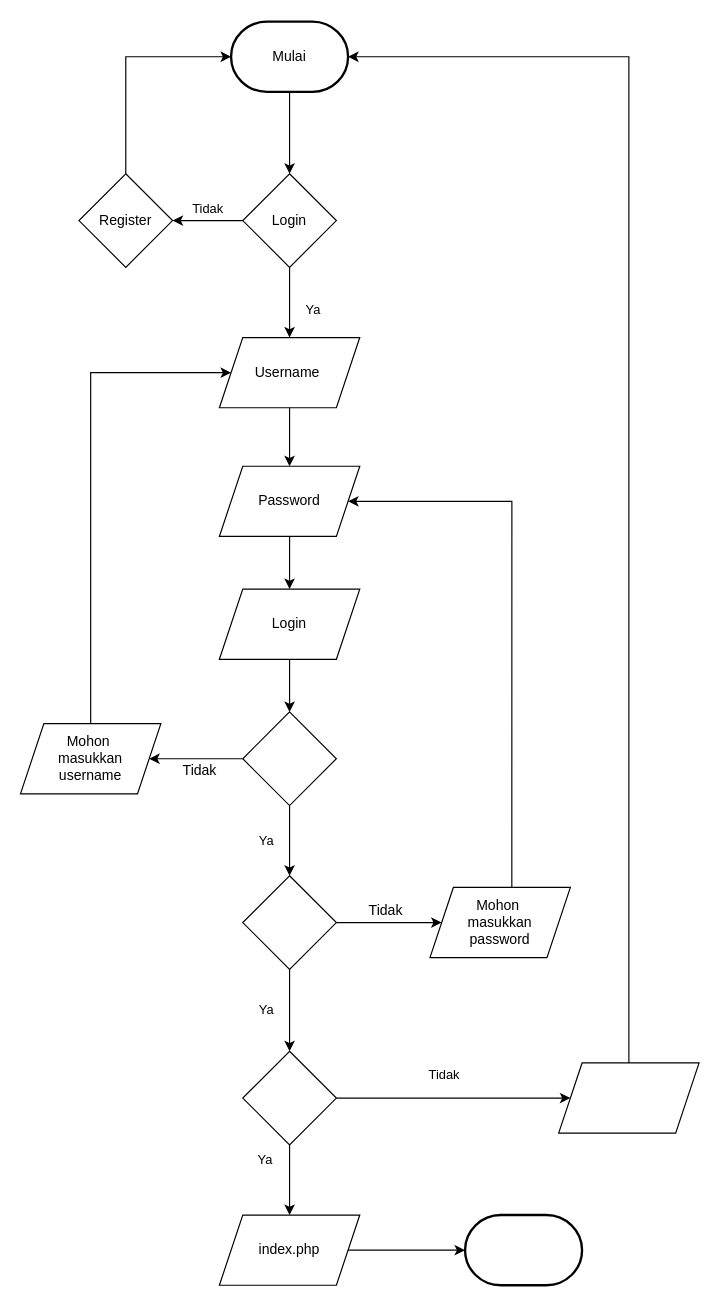
Some shapes in this 720 by 1306 pixel diagram are drawn without their labels. The centre of each missing label's shape, as x and y in pixels:
Akun benar?: (289,1097)
Password diisi?: (289,922)
Selesai: (523,1249)
Username atau password salah: (628,1097)
Username diisi?: (289,758)
